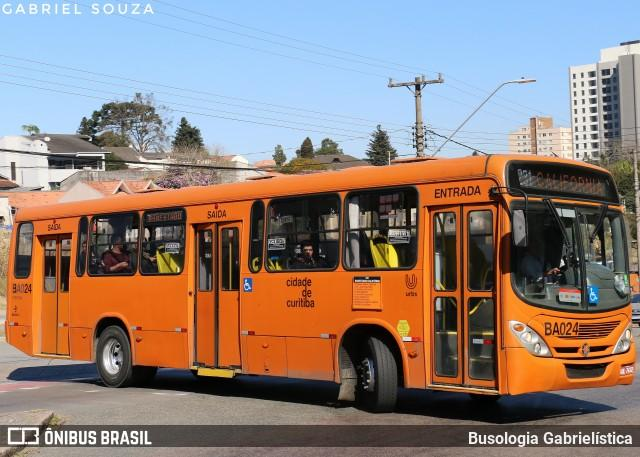CALIFORNIA: (533, 166, 610, 199)
